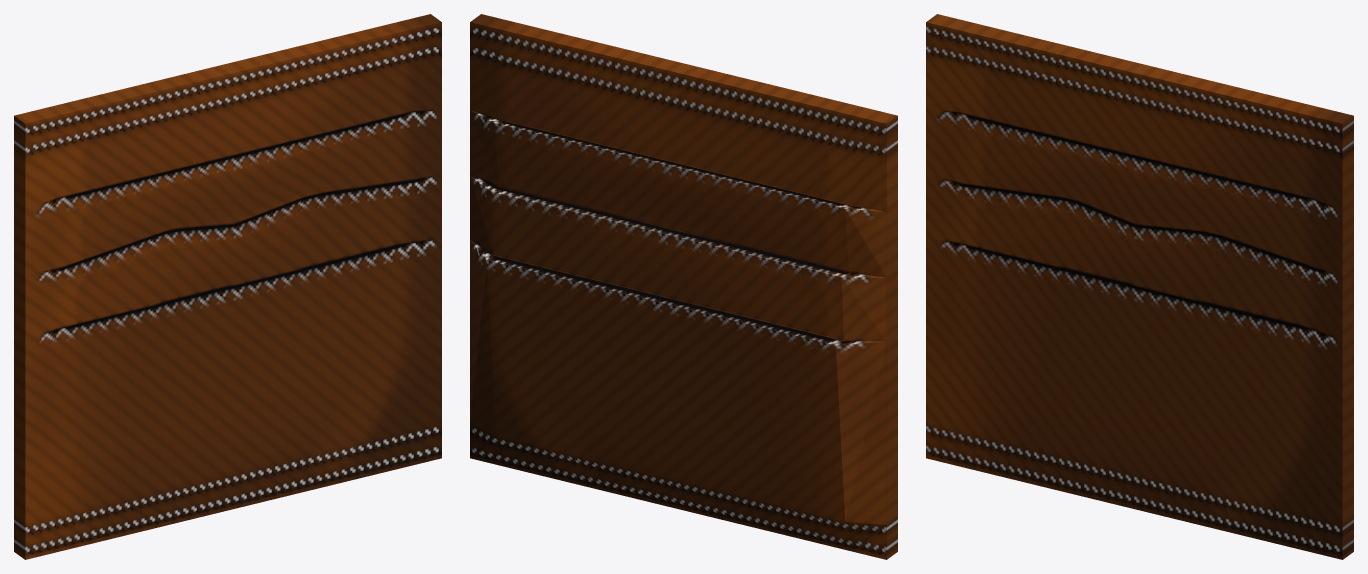
File: CardHolder.obj
3 views of the same model, side by side, from view 1: azimuth 30°, elevation 25°; view 2: azimuth 150°, elevation 25°; view 3: azimuth 330°, elevation 25° (orthographic).
Bounding box in the file's own units: 2 × 2 × 0.2308.
